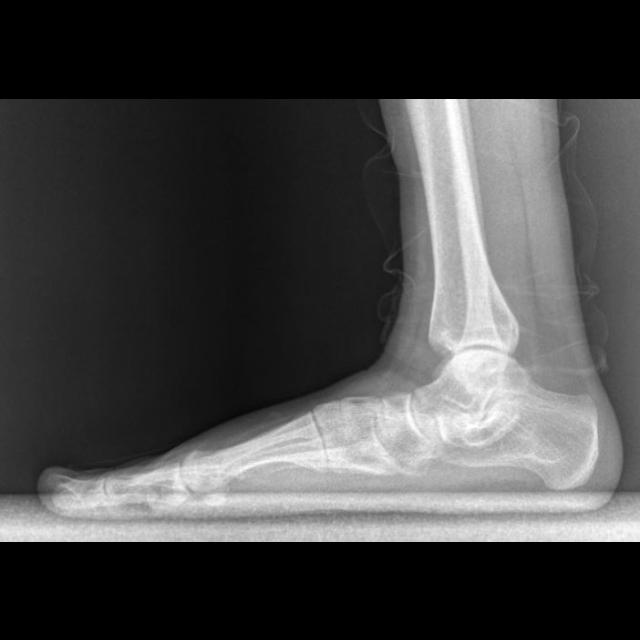a: (434, 375, 596, 488)
b: (375, 392, 434, 470)
c: (182, 409, 326, 493)
